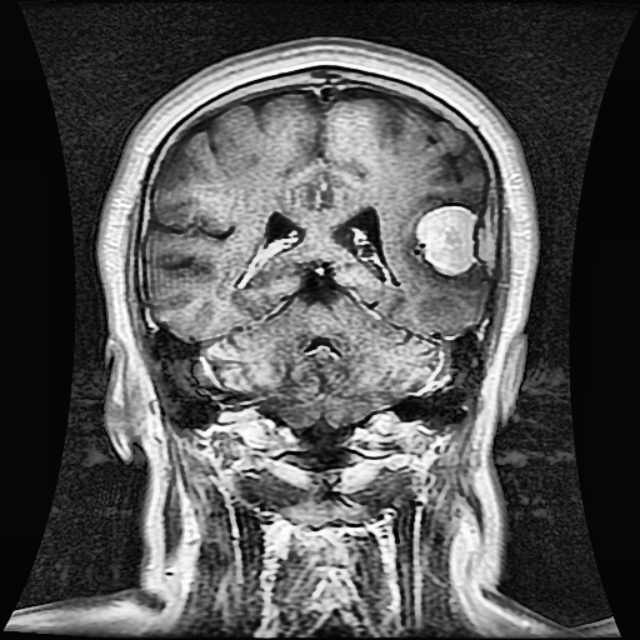Glioma: (414, 203, 475, 273)
